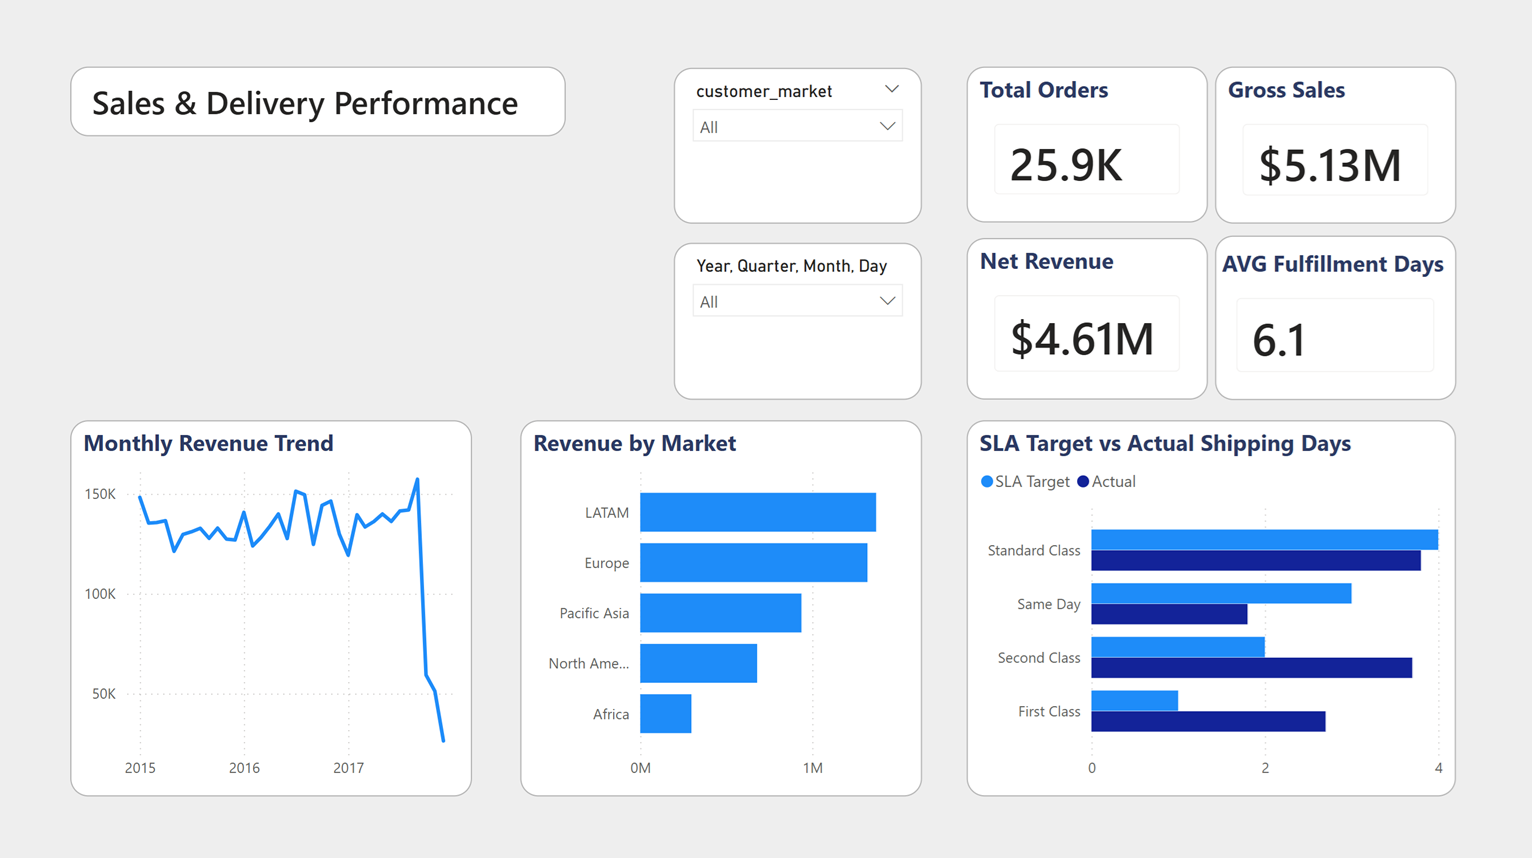

The dashboard page shown, as its layout file describes it:
{"tool":"powerbi","page":{"name":" Sales & Delivery Performance","canvas":[1280,720],"ordinal":0},"visuals":[{"type":"textbox","box":[59.7,56.8,413.8,58.7],"z":0},{"type":"cardVisual","title":"Net Revenue","fields":{"Data":["Sum(gold_sales_fact.net_sales)"]},"box":[807.3,200.1,201.1,134.7],"z":1000},{"type":"cardVisual","title":"Total Orders","fields":{"Data":["CountNonNull(gold_sales_fact.order_id)"]},"box":[807.3,56.8,201.1,129.9],"z":2000},{"type":"cardVisual","title":"Gross Sales","fields":{"Data":["Sum(gold_sales_fact.gross_sales)"]},"box":[1014.2,56.8,201.1,130.9],"z":3000},{"type":"cardVisual","title":"AVG Fulfillment Days","fields":{"Data":["Avg(gold_sales_fact.fulfillment_days)"]},"box":[1014.2,198.2,201.1,136.6],"z":4000},{"type":"lineChart","title":"Monthly Revenue Trend","fields":{"Y":["Sum(gold_sales_fact.net_sales)"],"Category":["gold_sales_fact.order_date.Variation.Date Hierarchy.Year","gold_sales_fact.order_date.Variation.Date Hierarchy.Month"]},"box":[59.7,352.2,334.9,313.7],"z":5000},{"type":"barChart","title":"Revenue by Market","fields":{"Category":["gold_sales_fact.customer_market"],"Y":["Sum(gold_sales_fact.net_sales)"]},"box":[434.9,352.2,334.9,313.7],"z":6000},{"type":"clusteredBarChart","title":"SLA Target vs Actual Shipping Days","fields":{"Category":["gold_sla_performance.shipment_mode"],"Y":["Avg(gold_sla_performance.sla_target_days)","Avg(gold_sla_performance.avg_actual_days)"]},"box":[807.3,352.2,408,313.7],"z":7000},{"type":"slicer","fields":{"Values":["gold_sales_fact.order_date.Variation.Date Hierarchy.Year","gold_sales_fact.order_date.Variation.Date Hierarchy.Quarter","gold_sales_fact.order_date.Variation.Date Hierarchy.Month","gold_sales_fact.order_date.Variation.Date Hierarchy.Day"]},"box":[562.9,204,206.9,130.9],"z":8000},{"type":"slicer","fields":{"Values":["gold_sales_fact.customer_market"]},"box":[562.9,57.7,206.9,129.9],"z":9000}]}

Visuals, with their boxes in screenshot pixels (x1, y1, x2, y2), scaled from the page's 1280x720 canvas onto the 1532x858 screenshot:
textbox: Rect(71, 68, 567, 138)
"Net Revenue" cardVisual: Rect(966, 238, 1207, 399)
"Total Orders" cardVisual: Rect(966, 68, 1207, 222)
"Gross Sales" cardVisual: Rect(1214, 68, 1455, 224)
"AVG Fulfillment Days" cardVisual: Rect(1214, 236, 1455, 399)
"Monthly Revenue Trend" lineChart: Rect(71, 420, 472, 794)
"Revenue by Market" barChart: Rect(521, 420, 921, 794)
"SLA Target vs Actual Shipping Days" clusteredBarChart: Rect(966, 420, 1455, 794)
slicer - gold_sales_fact.order_date.Variation.Date Hierarchy.Year x gold_sales_fact.order_date.Variation.Date Hierarchy.Quarter: Rect(674, 243, 921, 399)
slicer - gold_sales_fact.customer_market: Rect(674, 69, 921, 224)
